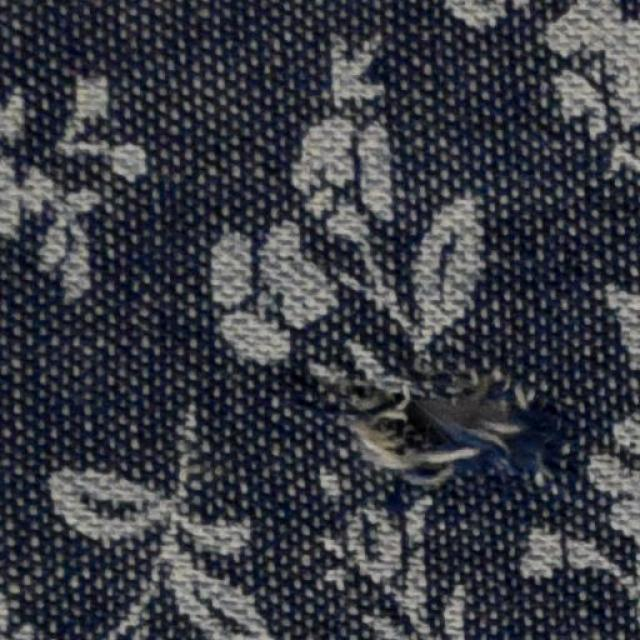Hole: (428, 392, 483, 443)
Snag: (328, 370, 577, 483)
